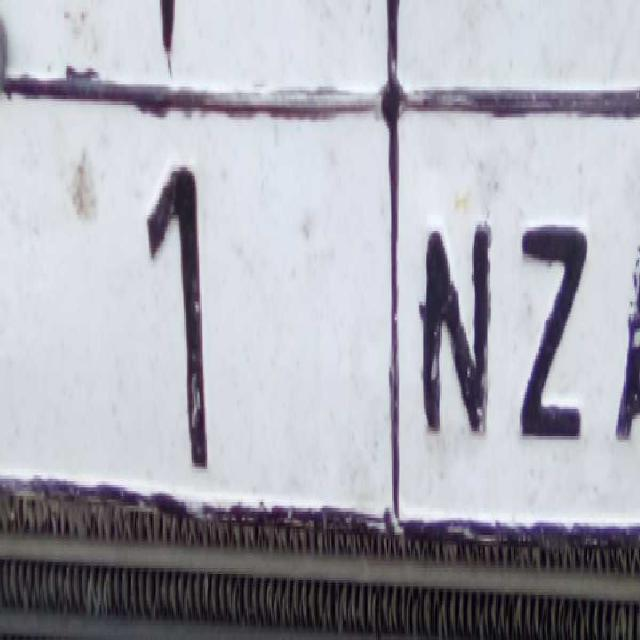license_plate: (0, 69, 640, 542)
